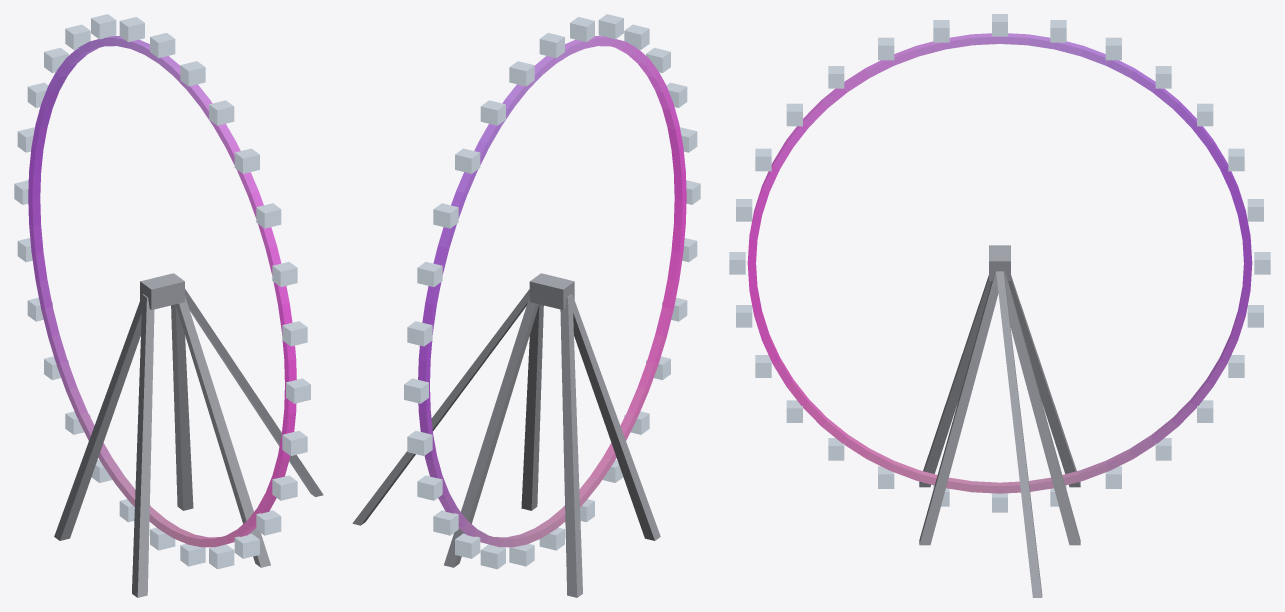
Rendered from high_roller.glb.
The picture shows the model from 3 angles, left to right: view 1: azimuth 30°, elevation 25°; view 2: azimuth 150°, elevation 25°; view 3: azimuth 270°, elevation 25°; orthographic projection. The views are drawn at different scales.
Visible parts, largest first — view 1: high_roller; view 2: high_roller; view 3: high_roller.
Part boxes in pixels (x1=…): high_roller: x1=14, y1=14, x2=323, y2=597; high_roller: x1=352, y1=14, x2=700, y2=597; high_roller: x1=729, y1=14, x2=1270, y2=597.
Bounding box in the file's own units: 87.3 × 175 × 173.
